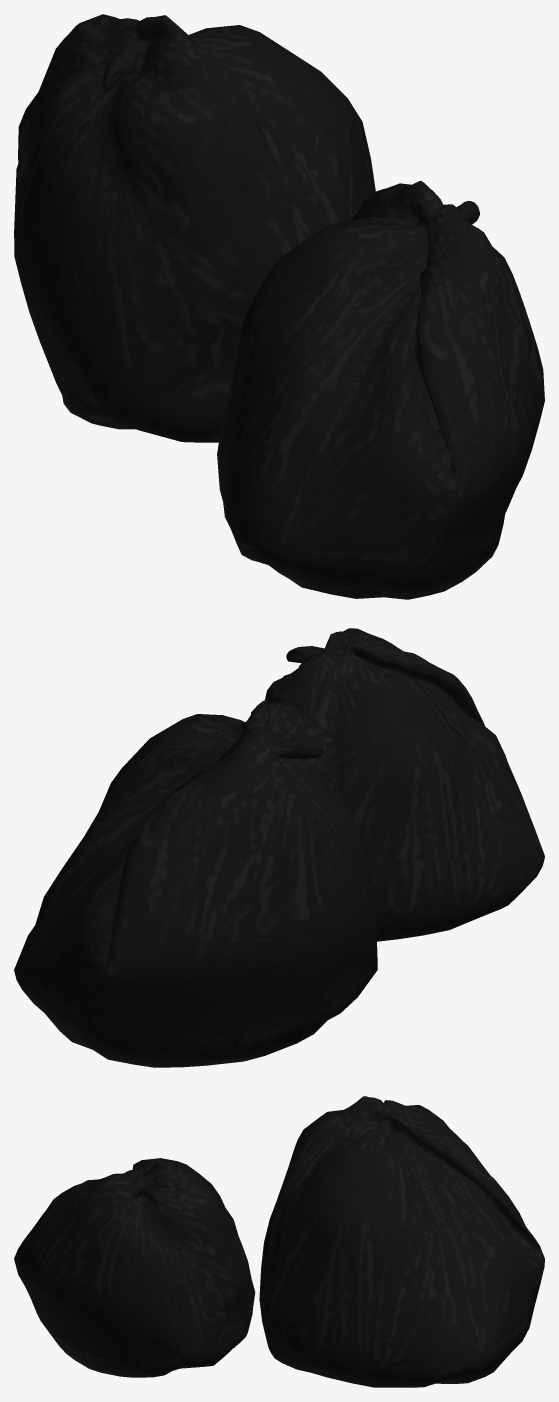
The model's file is Prop_GarbageBag_Dual.fbx.
The picture shows the model from 3 angles, top to bottom: view 1: azimuth 30°, elevation 25°; view 2: azimuth 150°, elevation 25°; view 3: azimuth 270°, elevation 25°; orthographic projection. The views are drawn at different scales.
Parts seen in each view (by area): view 1: Prop_GarbageBag_Dual; view 2: Prop_GarbageBag_Dual; view 3: Prop_GarbageBag_Dual.
Boxes of the visible parts, x1,y1,x2,y2 form: Prop_GarbageBag_Dual: [14, 14, 544, 599]; Prop_GarbageBag_Dual: [14, 628, 544, 1067]; Prop_GarbageBag_Dual: [14, 1096, 544, 1387].
Bounding box in the file's own units: 29.67 × 31.21 × 61.74.
